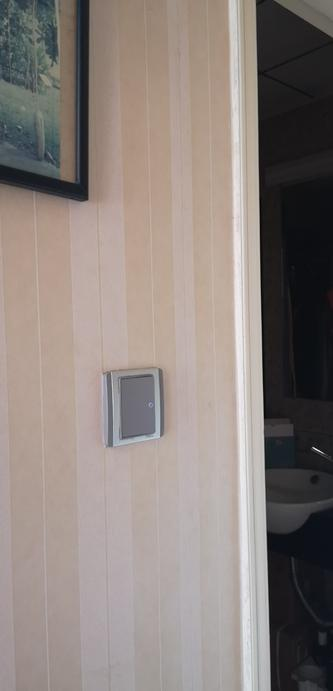switch: (118, 377, 166, 429)
